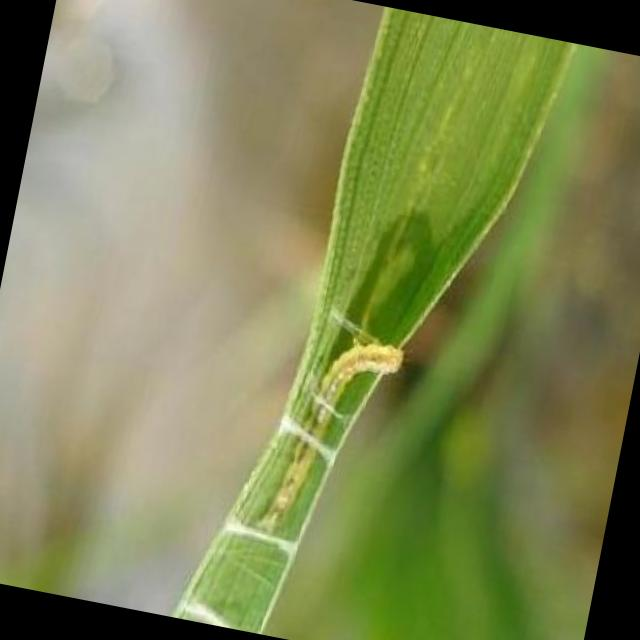leaf-folder: (205, 260, 449, 624)
